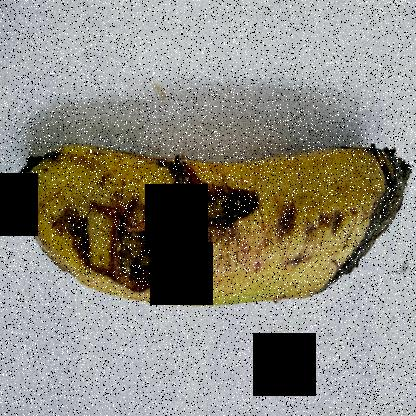rotten: (47, 150, 248, 309), (303, 124, 416, 346)
